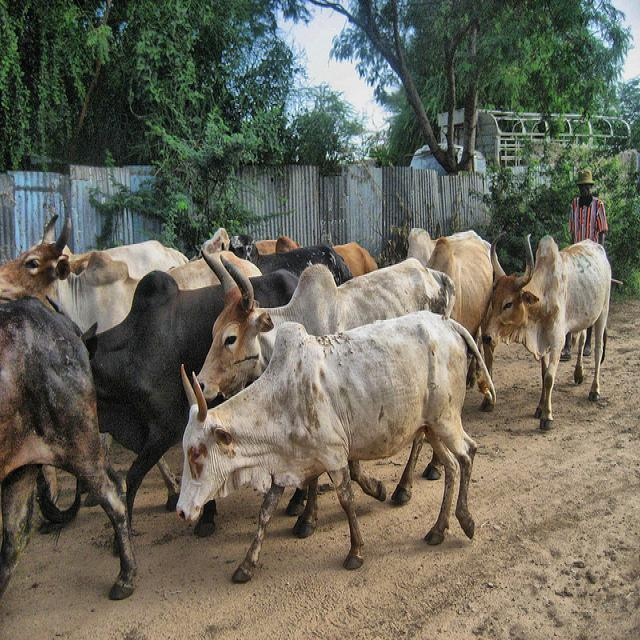Vehicle: (410, 108, 632, 177)
